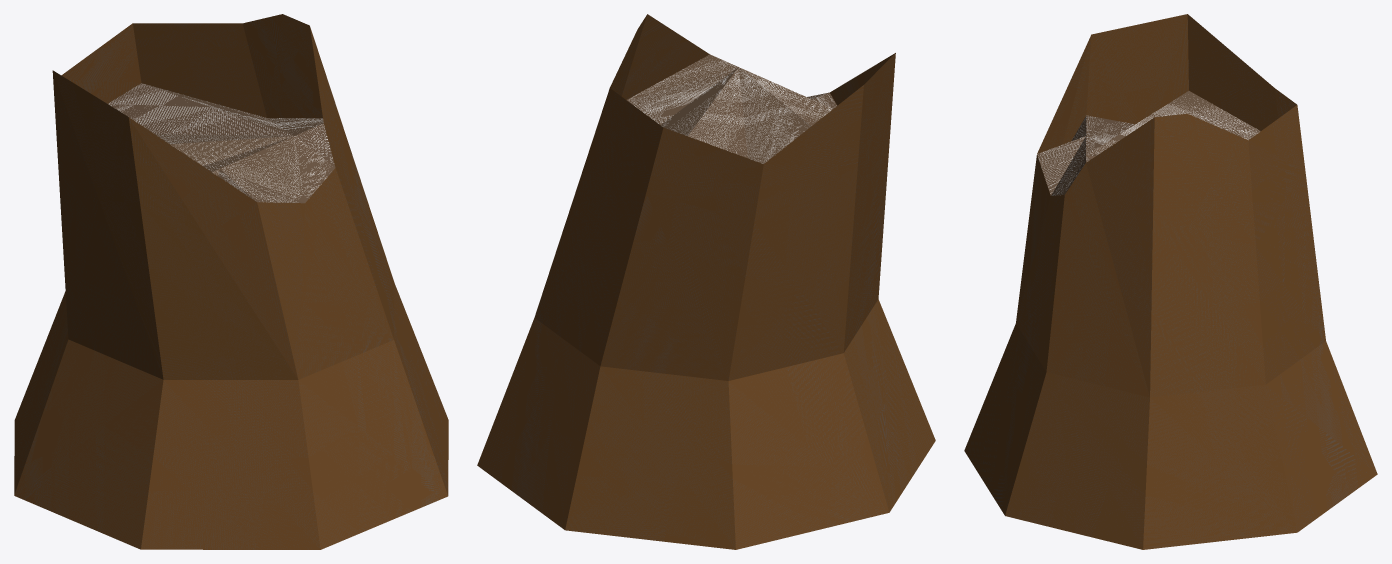
File: Tree_Stump_06.fbx
The picture shows the model from 3 angles, left to right: view 1: azimuth 30°, elevation 25°; view 2: azimuth 150°, elevation 25°; view 3: azimuth 270°, elevation 25°; orthographic projection. The views are drawn at different scales.
Visible parts, largest first — view 1: Model; view 2: Model; view 3: Model.
Boxes of the visible parts, x1,y1,x2,y2 form: Model: [14, 14, 448, 549]; Model: [477, 14, 935, 549]; Model: [964, 14, 1377, 549].
Size of the model in its own units: 196 by 196 by 196.
